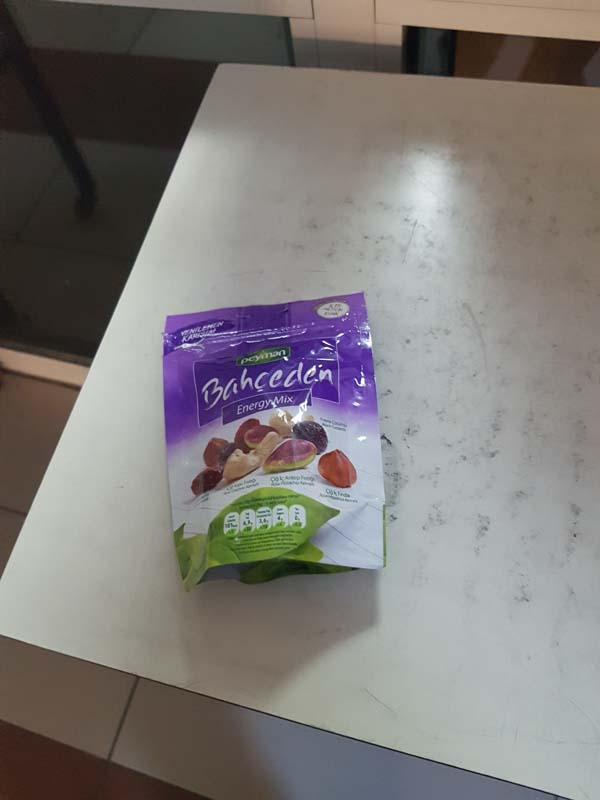bahcedenenergymix: (151, 284, 402, 602)
